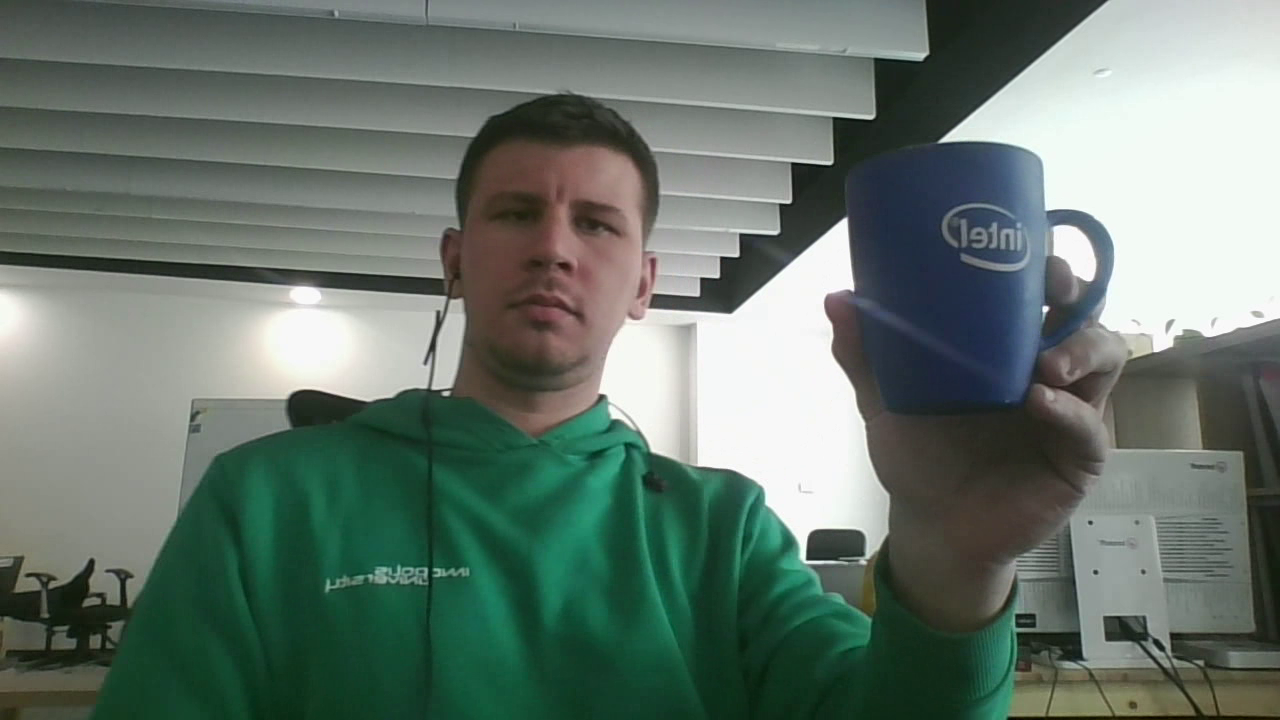cup: (844, 136, 1115, 420)
